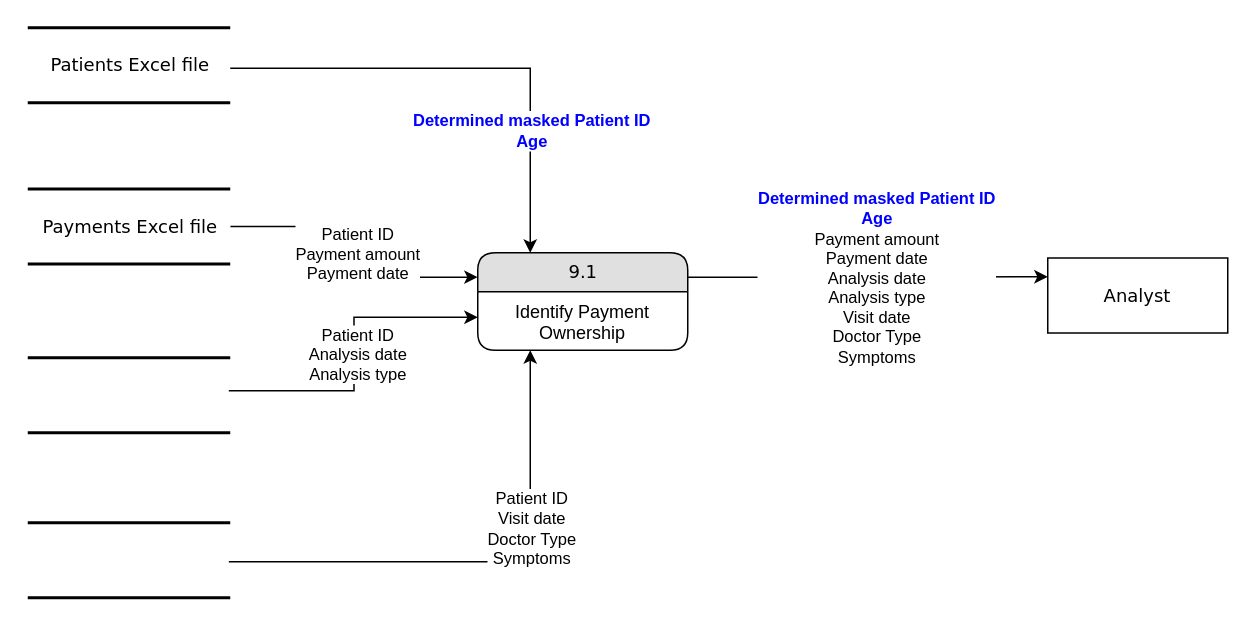
The diagram is 1254 pixels wide and 624 high, and some of its shapes have lost their labels. Here are the shapes that lost their labels. From the top down, the centre of each, then its label:
At (128,395): "RegistryByDate Excel File".
At (128,559): "Journal Doctor FIO X Excel file".
